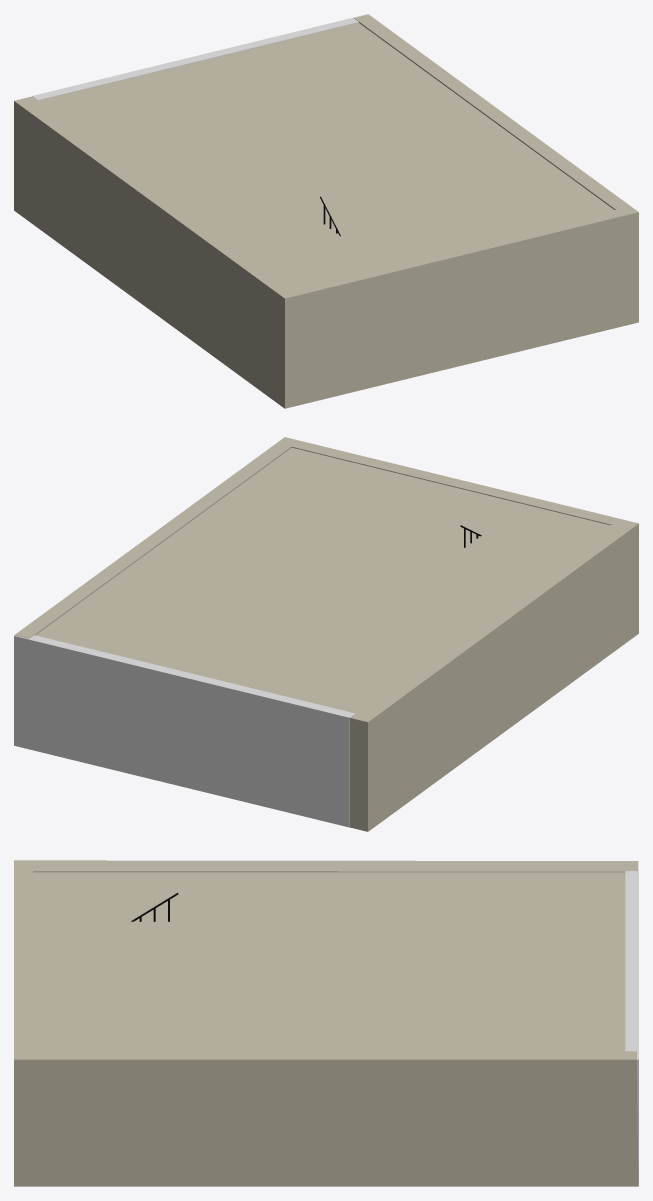
Rendered from Sala.fbx.
3 renders of one model, top to bottom at view 1: azimuth 30°, elevation 25°; view 2: azimuth 150°, elevation 25°; view 3: azimuth 270°, elevation 25°, orthographic. The views are drawn at different scales.
Parts seen in each view (by area): view 1: Plane, Cube.026, Cube.027; view 2: Cube.026, Plane, Cube.027; view 3: Cube.026, Plane, Cube.027.
Boxes of the visible parts, box(x1,y1,x2,y2) form: Plane: box(14, 14, 638, 408); Cube.026: box(39, 22, 614, 287); Cube.027: box(32, 14, 367, 100); Cube.026: box(36, 447, 610, 713); Plane: box(15, 437, 638, 831); Cube.027: box(14, 635, 355, 827); Cube.026: box(33, 872, 625, 1051); Plane: box(14, 860, 638, 1186); Cube.027: box(625, 871, 638, 1186).
Size of the model in its own units: 555 by 205 by 736.
